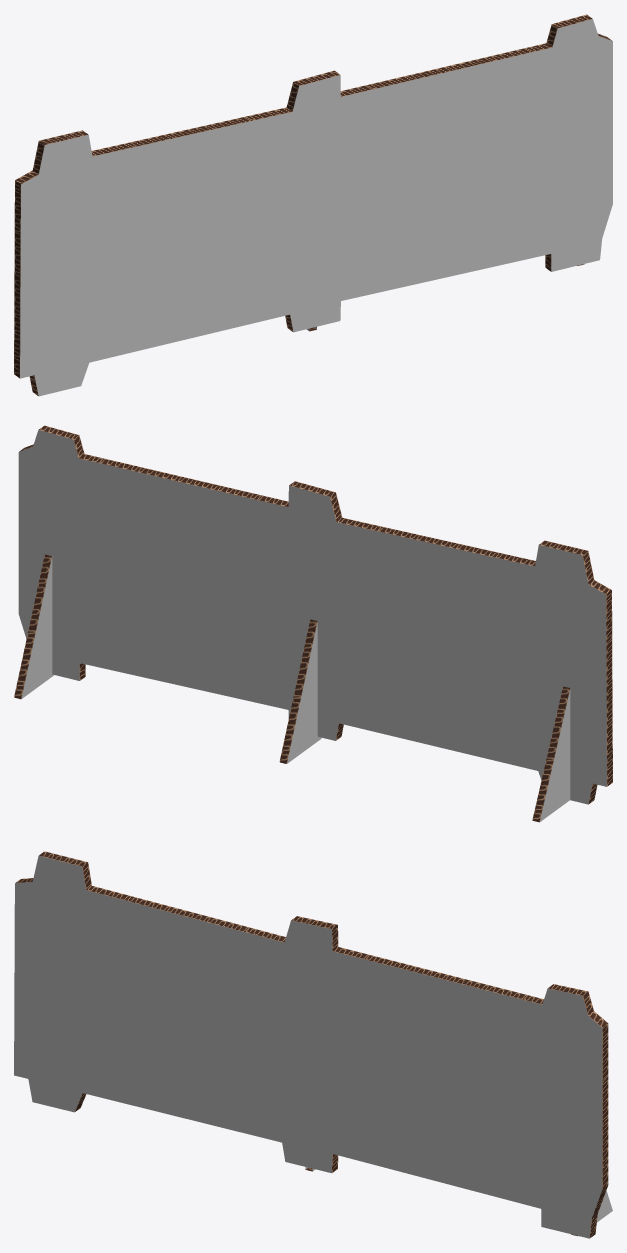
File: Bariere.fbx
The picture shows the model from 3 angles, top to bottom: view 1: azimuth 30°, elevation 25°; view 2: azimuth 150°, elevation 25°; view 3: azimuth 330°, elevation 25°; orthographic projection.
Parts seen in each view (by area): view 1: Bariere_LOD0; view 2: Bariere_LOD0; view 3: Bariere_LOD0.
Part boxes in pixels (x1=…): Bariere_LOD0: x1=14, y1=14, x2=612, y2=396; Bariere_LOD0: x1=14, y1=425, x2=612, y2=822; Bariere_LOD0: x1=14, y1=851, x2=612, y2=1238.
Size of the model in its own units: 862 by 351 by 93.44.
